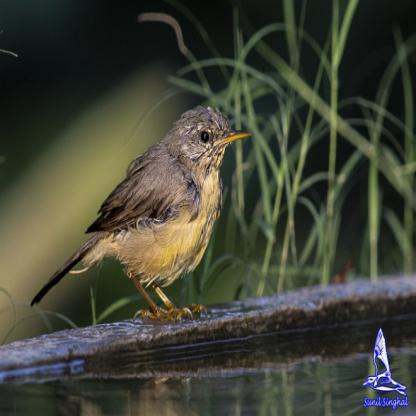Burung: (28, 107, 253, 344)
